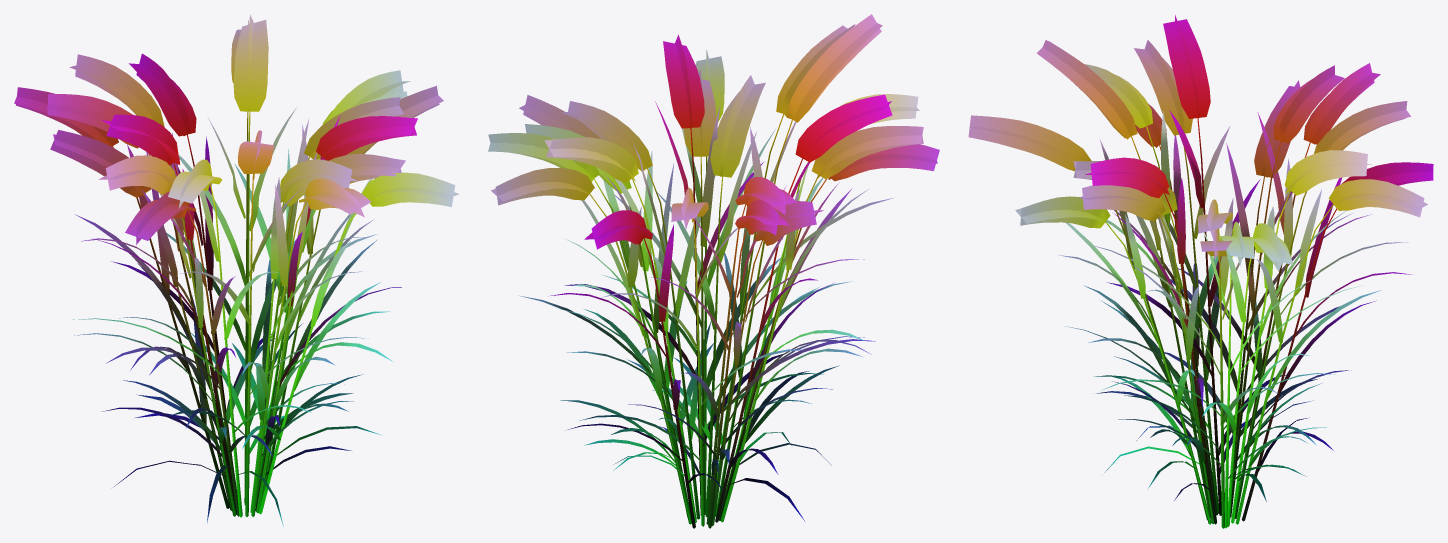
The model's file is Rice_AlmostRipe_C_HD.fbx.
3 renders of one model, left to right at view 1: azimuth 30°, elevation 25°; view 2: azimuth 150°, elevation 25°; view 3: azimuth 270°, elevation 25°, orthographic. The views are drawn at different scales.
Visible parts, largest first — view 1: Rice_AlmostRipe_C_HD_LOD0; view 2: Rice_AlmostRipe_C_HD_LOD0; view 3: Rice_AlmostRipe_C_HD_LOD0.
Boxes of the visible parts, box(x1,y1,x2,y2) form: Rice_AlmostRipe_C_HD_LOD0: box(14, 14, 459, 526); Rice_AlmostRipe_C_HD_LOD0: box(488, 14, 939, 528); Rice_AlmostRipe_C_HD_LOD0: box(968, 15, 1433, 528).
Size of what is drawn, in the model's own units: 0.9598 by 1.14 by 1.08.
